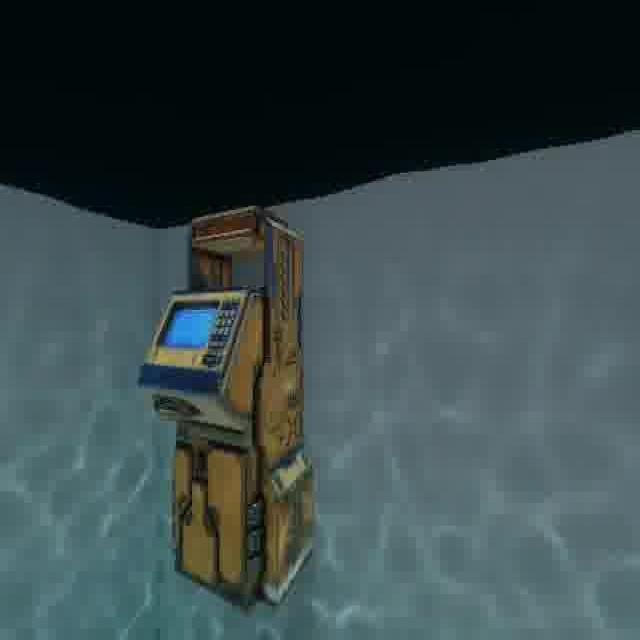Control Panel: (124, 203, 333, 619)
